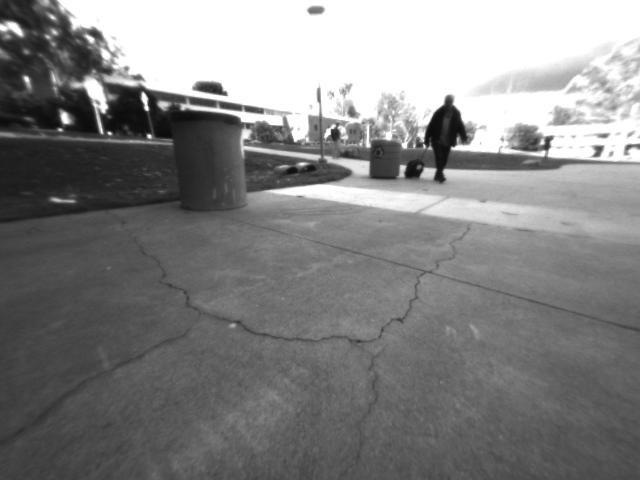trashcan: (160, 101, 256, 220), (363, 133, 405, 187)
